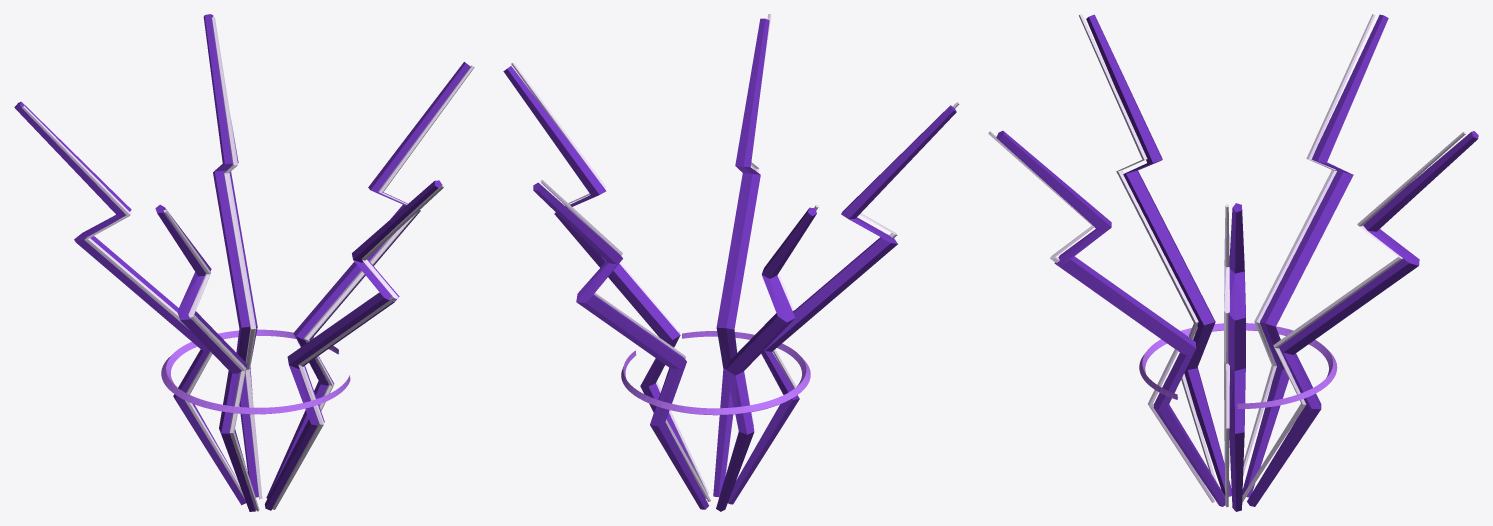
The model's file is VFX_58_FulmineArtiglioTuono.fbx.
3 views of the same model, side by side, from view 1: azimuth 30°, elevation 25°; view 2: azimuth 150°, elevation 25°; view 3: azimuth 270°, elevation 25° (orthographic). The views are drawn at different scales.
Visible parts, largest first — view 1: VFX_58_FulmineArtiglioTuono; view 2: VFX_58_FulmineArtiglioTuono; view 3: VFX_58_FulmineArtiglioTuono.
Part boxes in pixels (x1,y1,x2,y2): VFX_58_FulmineArtiglioTuono: (14, 14, 474, 511); VFX_58_FulmineArtiglioTuono: (503, 14, 959, 511); VFX_58_FulmineArtiglioTuono: (988, 14, 1478, 511).
Bounding box in the file's own units: 313 × 304 × 334.
1 material, 1 textured.
